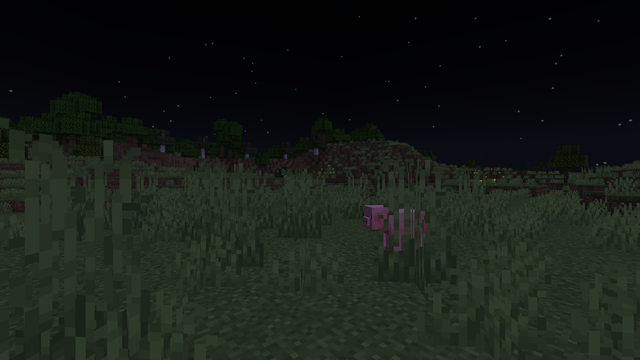cochons: (374, 207, 427, 254)
